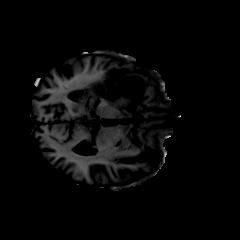glioma: (70, 62, 149, 113)
